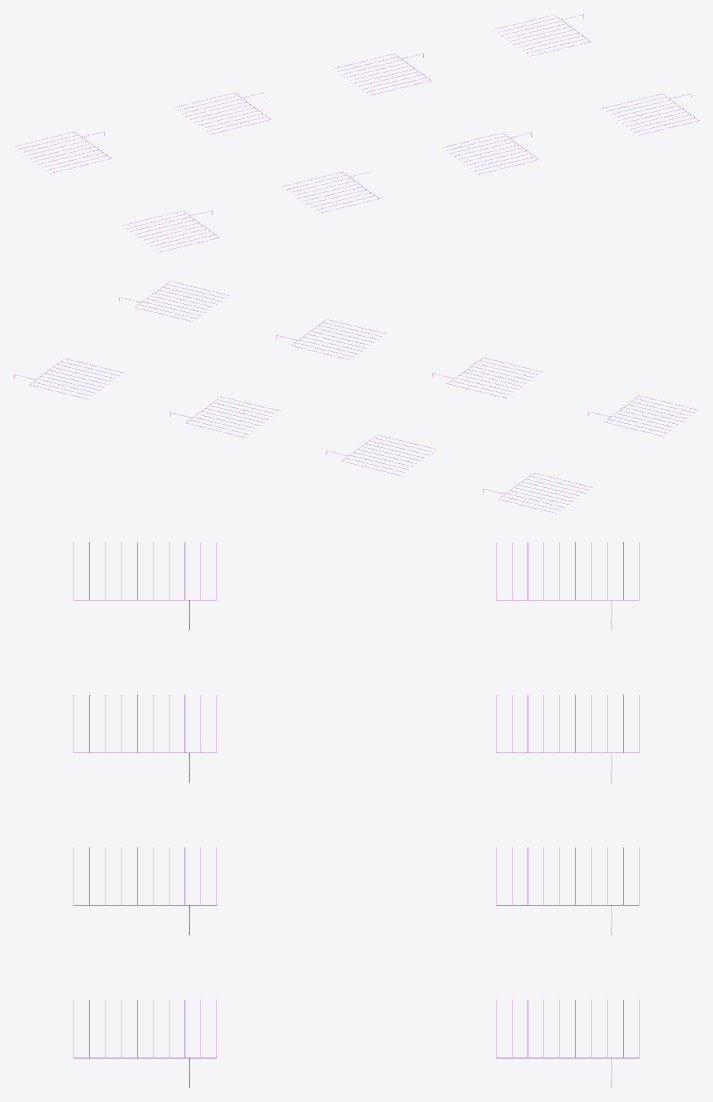
Rendered from fiber.glb.
3 views of the same model, one above another, from view 1: azimuth 30°, elevation 25°; view 2: azimuth 150°, elevation 25°; view 3: azimuth 270°, elevation 25° (orthographic). The views are drawn at different scales.
Parts seen in each view (by area): view 1: fiber_purple; view 2: fiber_purple; view 3: fiber_purple.
Part boxes in pixels (bbox=[...]): fiber_purple: bbox=[14, 14, 698, 252]; fiber_purple: bbox=[14, 281, 698, 513]; fiber_purple: bbox=[73, 542, 639, 1087].
Bounding box in the file's own units: 352 × 2.67 × 157.
